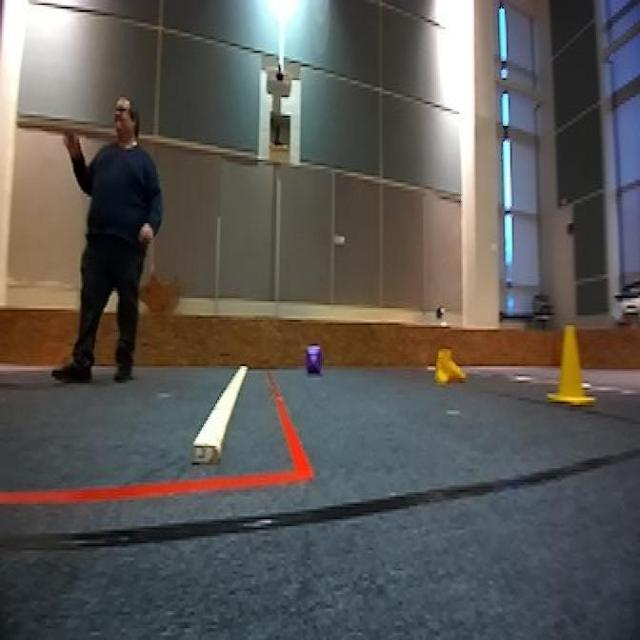frc_cone: (548, 322, 590, 412), (430, 346, 466, 386)
frc_cube: (302, 345, 323, 378)
